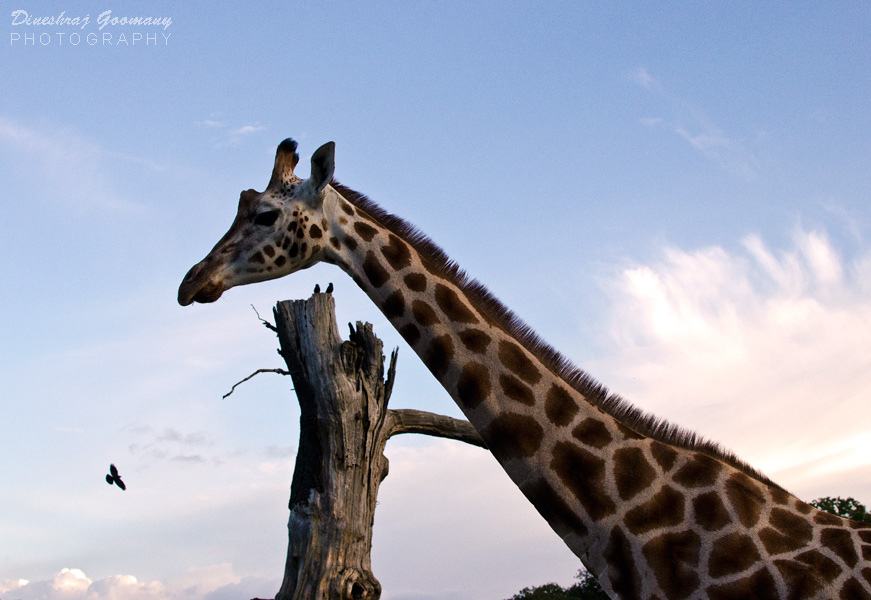giraffe: (179, 134, 850, 588)
